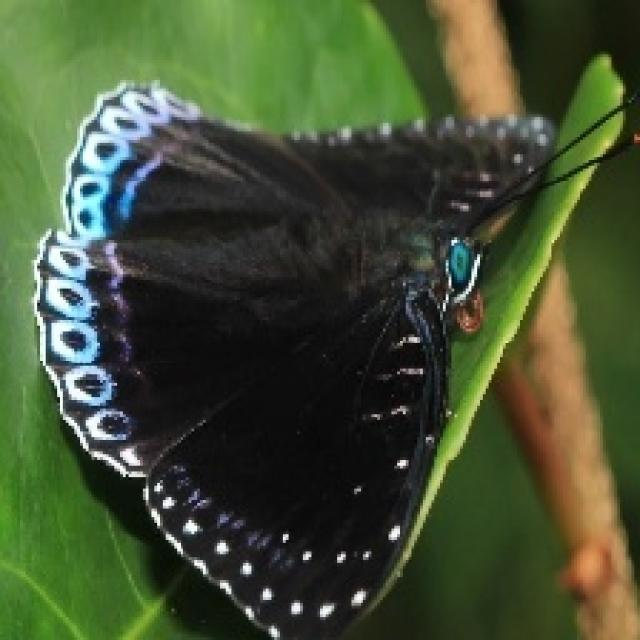butterfly: (29, 69, 637, 637)
